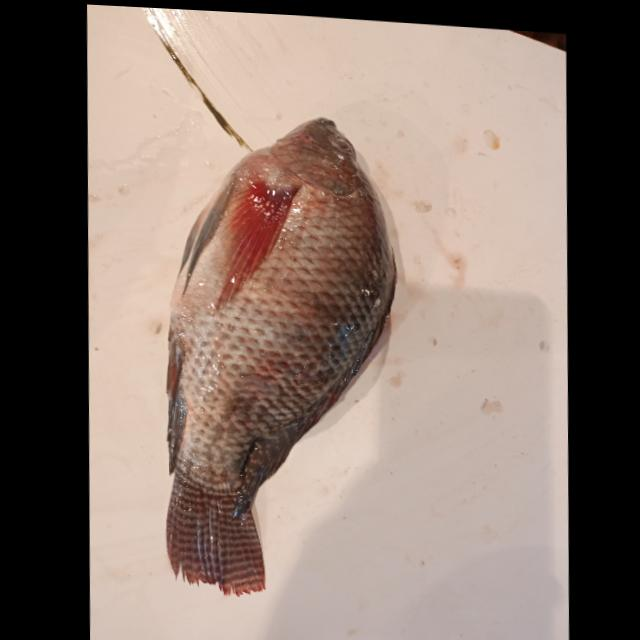Tilapia: (151, 101, 407, 605)
